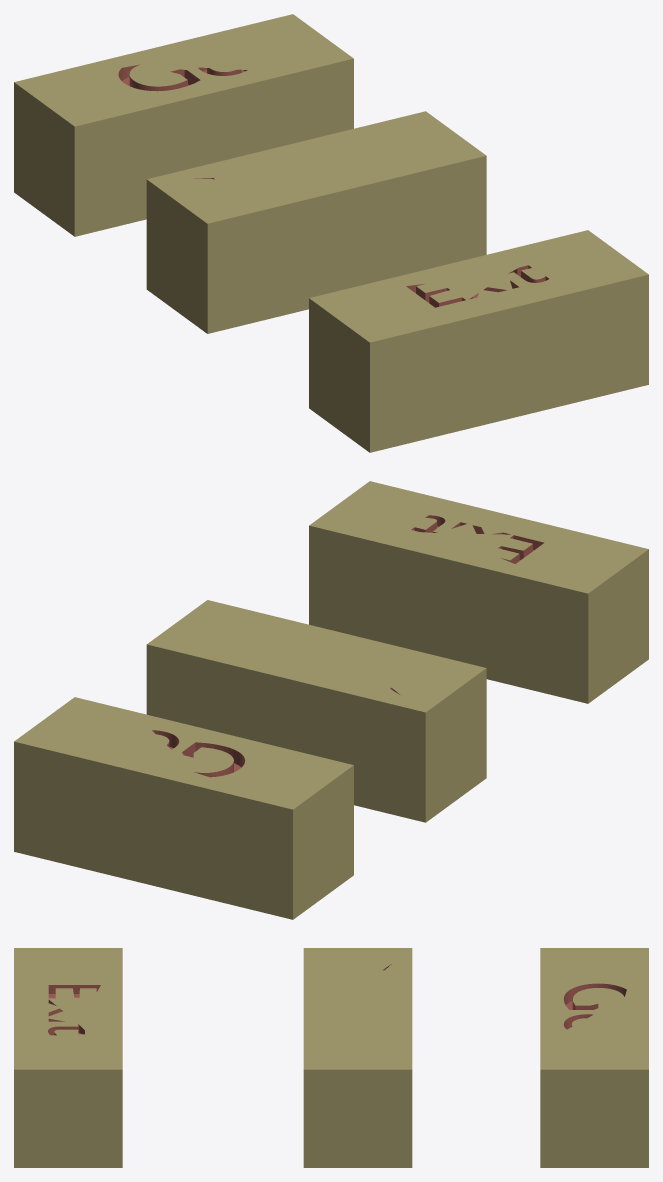
The model's file is ABC.fbx.
3 views of the same model, one above another, from view 1: azimuth 30°, elevation 25°; view 2: azimuth 150°, elevation 25°; view 3: azimuth 270°, elevation 25° (orthographic). The views are drawn at different scales.
Parts seen in each view (by area): view 1: Cube.146, Cube.145, Cube.144; view 2: Cube.144, Cube.146, Cube.145; view 3: Cube.145, Cube.144, Cube.146.
Part boxes in pixels (x1,y1,x2,y2): Cube.146: [309, 230, 648, 452]; Cube.145: [146, 111, 486, 333]; Cube.144: [14, 14, 353, 236]; Cube.144: [14, 697, 353, 919]; Cube.146: [309, 481, 648, 703]; Cube.145: [146, 600, 486, 822]; Cube.145: [303, 948, 412, 1167]; Cube.144: [540, 948, 648, 1167]; Cube.146: [14, 948, 122, 1167].
Size of the model in its own units: 530 by 200 by 1170.
